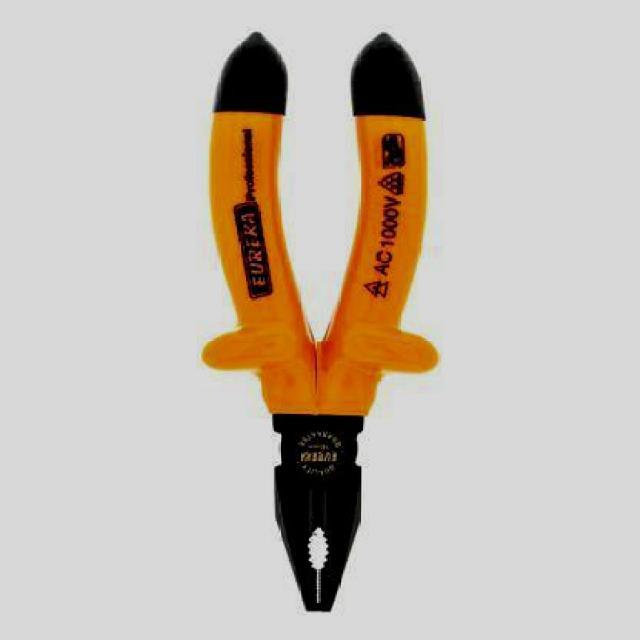pliers: (206, 24, 434, 620)
